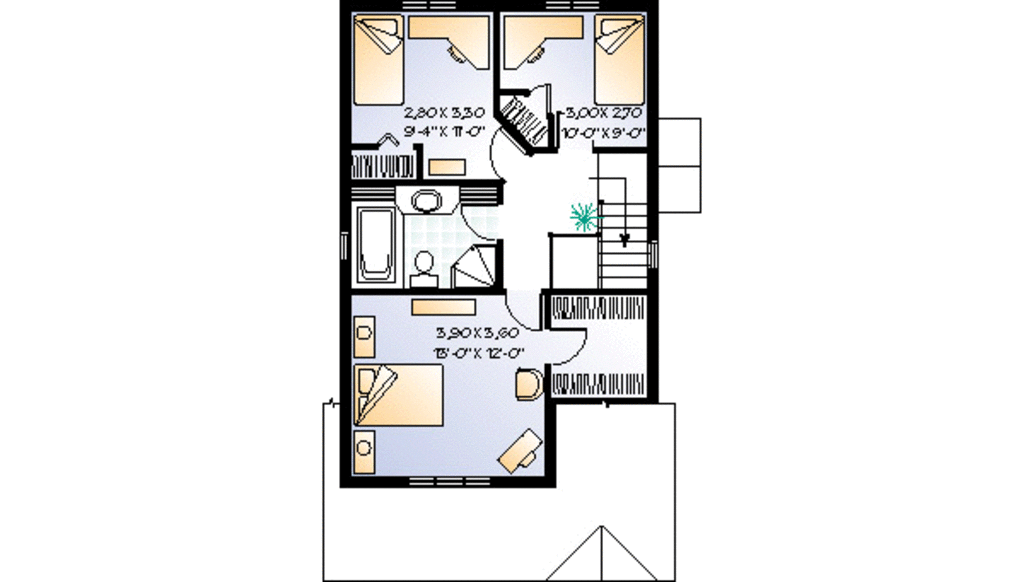bed: (342, 363, 452, 429), (345, 10, 415, 109), (596, 16, 647, 109)
door: (469, 121, 527, 182), (497, 286, 546, 337), (547, 323, 591, 366), (456, 201, 503, 241), (525, 82, 563, 130)
large_sink: (410, 247, 446, 289)
small_sink: (394, 182, 462, 217)
stairs: (592, 150, 646, 284)
tub: (346, 197, 401, 293)
window: (401, 467, 498, 493), (403, 1, 462, 16), (542, 1, 595, 14)
